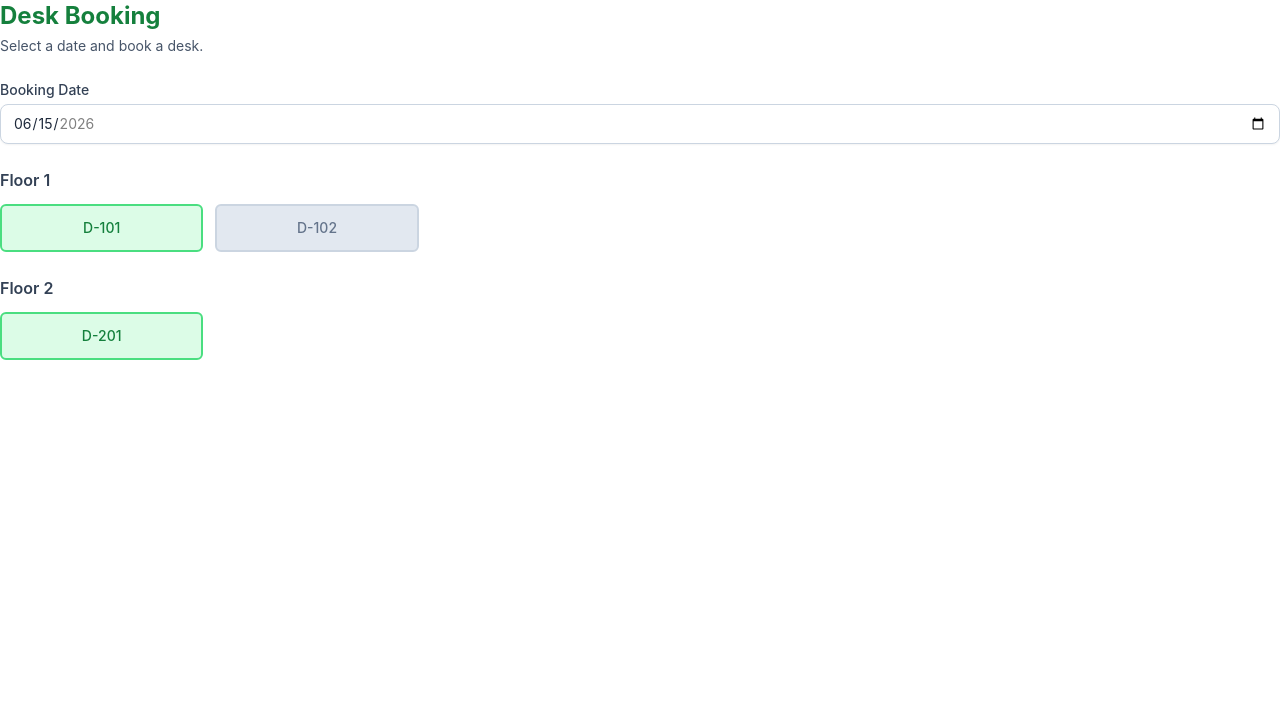
it: DeskBookingPage › shows error notification on booking failure
The image size is (1280, 720).
Click the button "D-101".
click(102, 228)  # box [0,204,203,252]
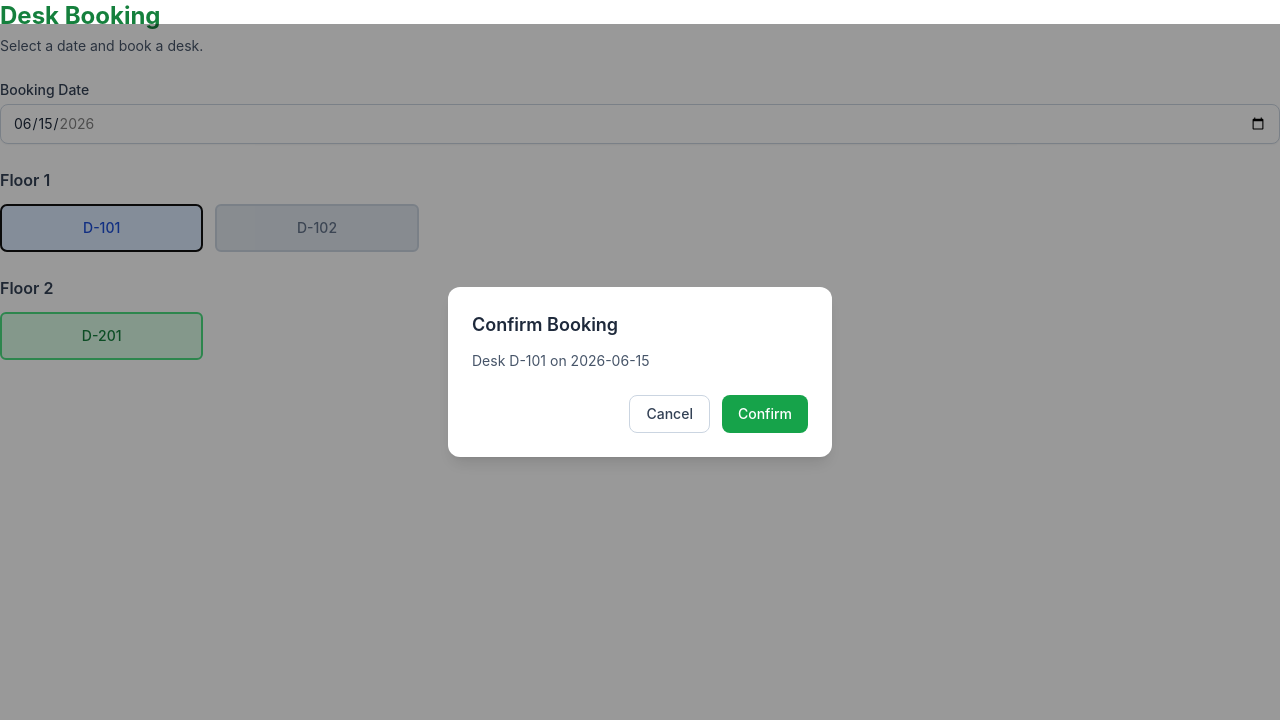
Expected: the dialog is shown
Click the button "Confirm".
click(765, 414)  # box [722,395,808,433]
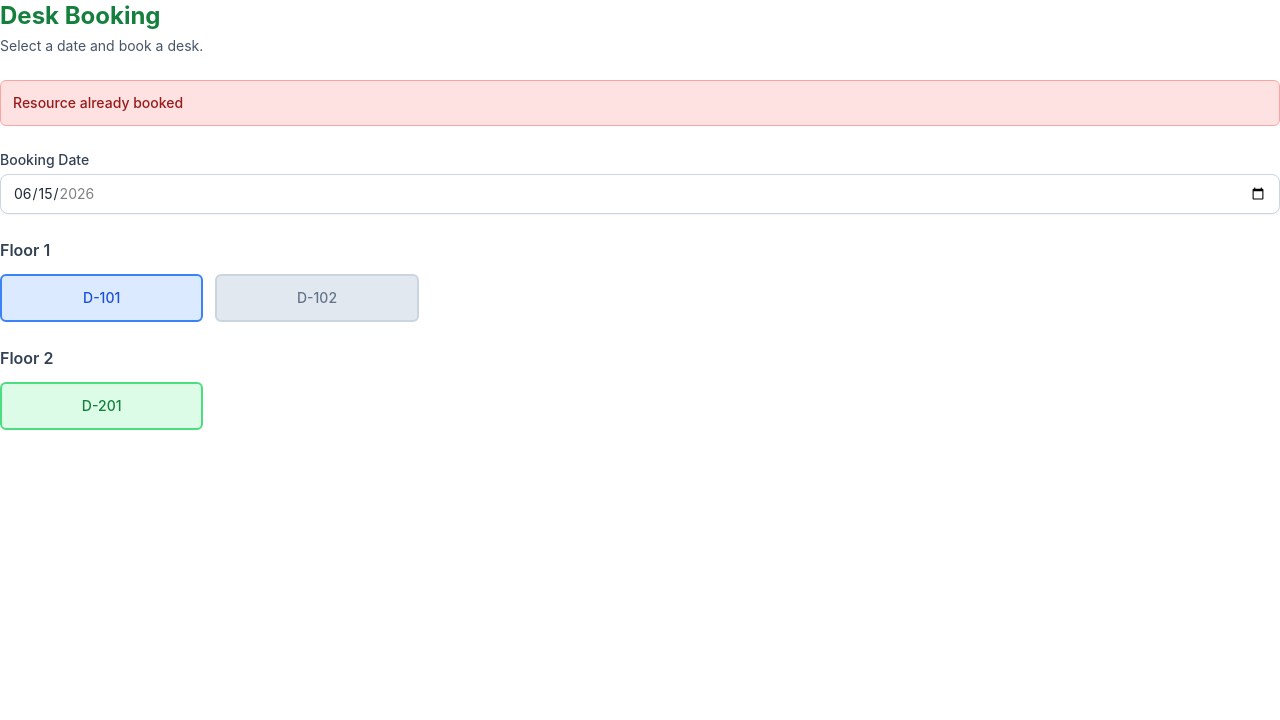
Expected: the message reads "Resource already booked", [13,94,183,111]
